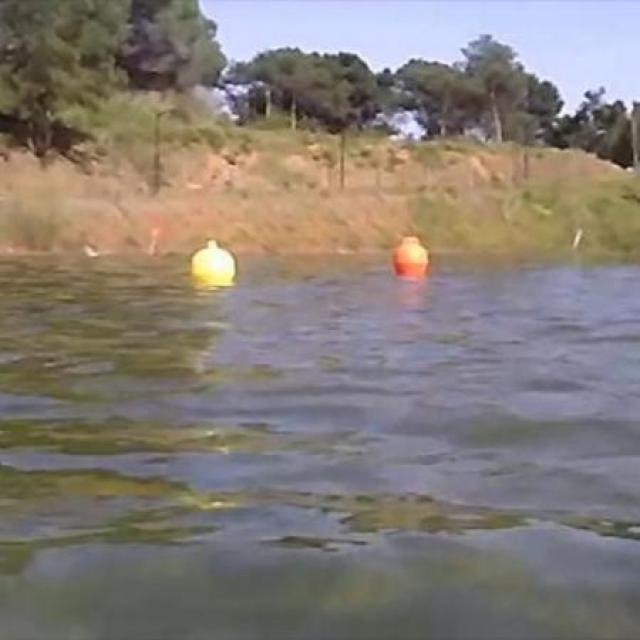buoy: (193, 240, 237, 282), (394, 236, 428, 277)
